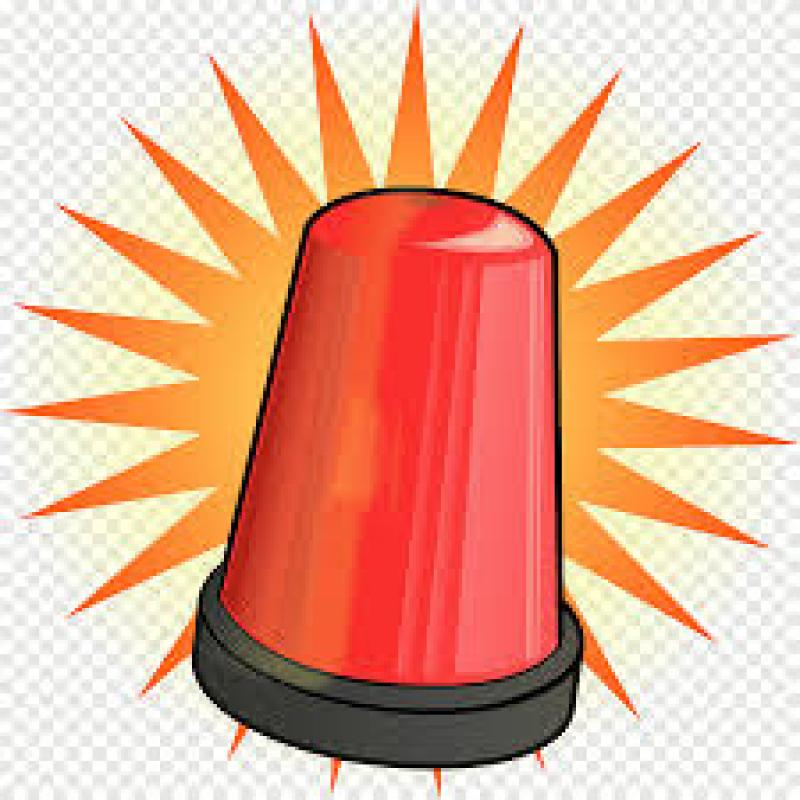AmbulanceSiren: (207, 128, 556, 780)
